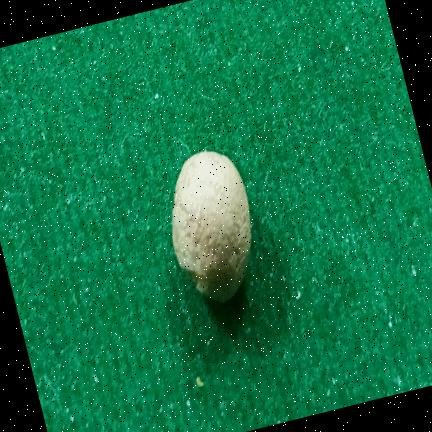cut: (172, 150, 251, 302)
